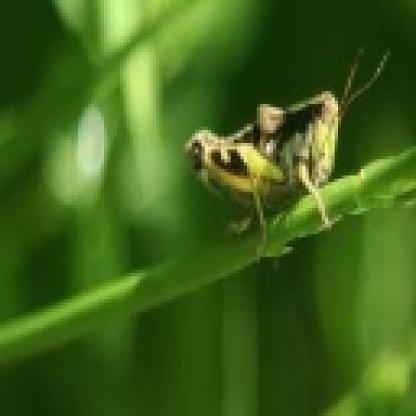grasshopper: (182, 51, 382, 256)
